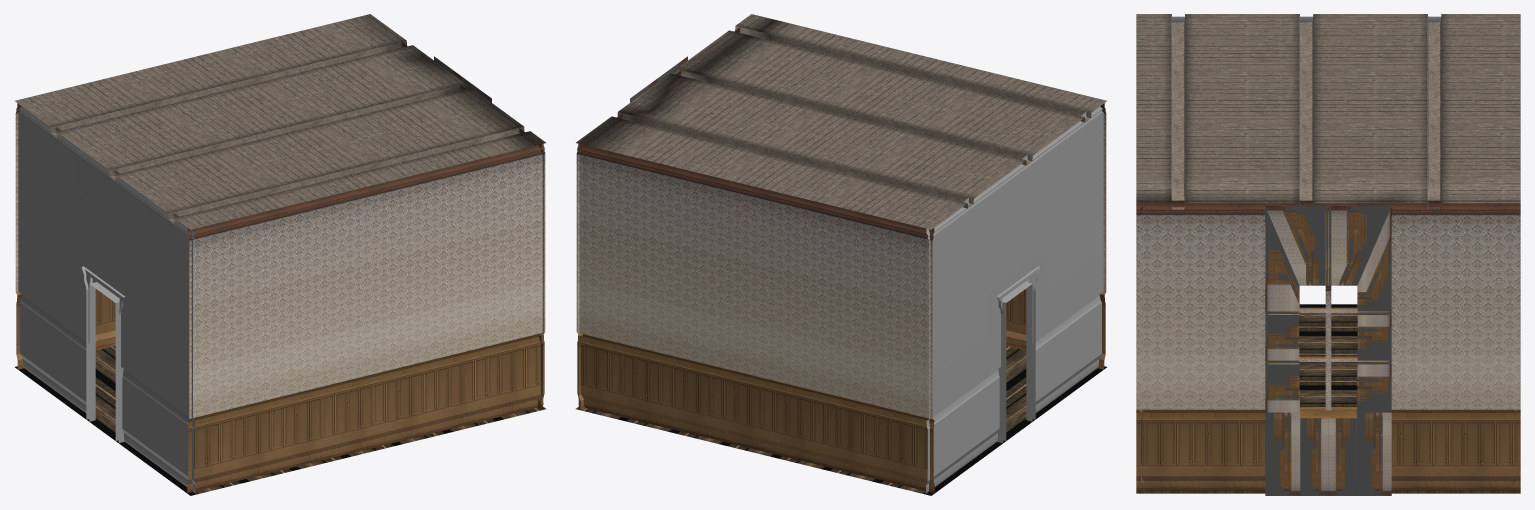
File: room_kitchen.fbx
The picture shows the model from 3 angles, left to right: view 1: azimuth 30°, elevation 25°; view 2: azimuth 150°, elevation 25°; view 3: azimuth 270°, elevation 25°; orthographic projection. The views are drawn at different scales.
Visible parts, largest first — view 1: wall_5m13; view 2: wall_5m13; view 3: wall_5m13.
Boxes of the visible parts, left/top/right/bottom form: wall_5m13: left=15, top=14, right=545, bottom=495; wall_5m13: left=576, top=14, right=1106, bottom=495; wall_5m13: left=1136, top=14, right=1520, bottom=495.
Size of the model in its own units: 730 by 500 by 600.
